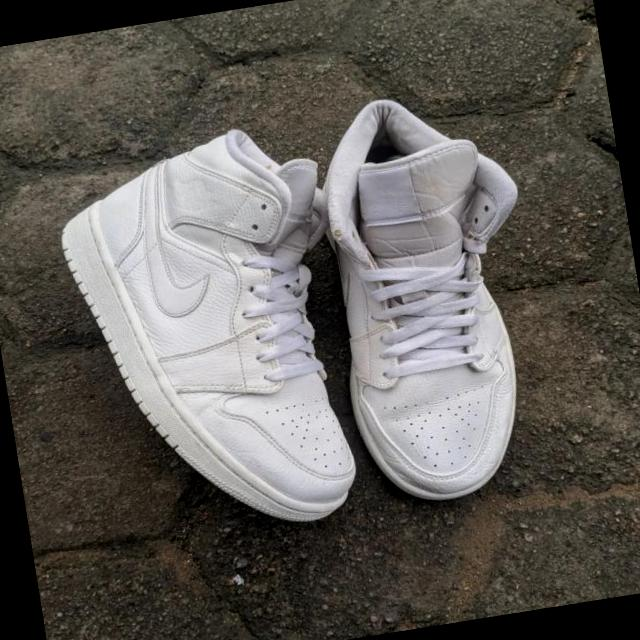nike_fake_jordan: (48, 117, 370, 555), (304, 85, 566, 516)
